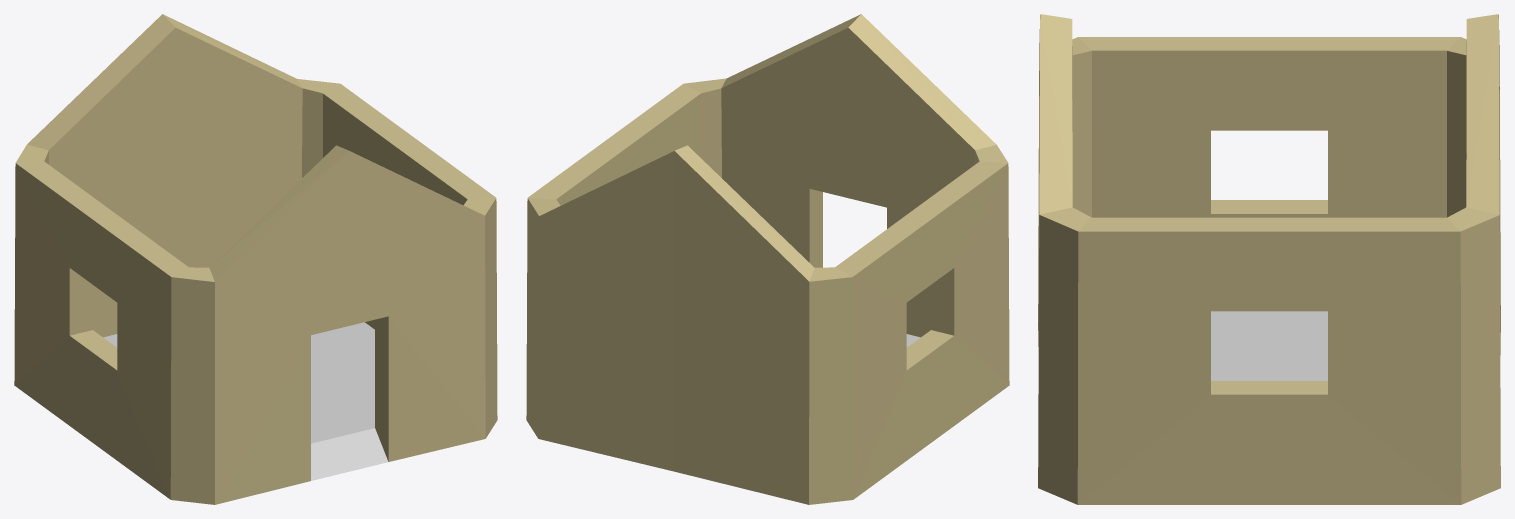
Rendered from 6x6house.fbx.
3 views of the same model, side by side, from view 1: azimuth 30°, elevation 25°; view 2: azimuth 150°, elevation 25°; view 3: azimuth 270°, elevation 25° (orthographic). The views are drawn at different scales.
Parts seen in each view (by area): view 1: Plane.047; view 2: Plane.047; view 3: Plane.047.
Boxes of the visible parts, x1,y1,x2,y2 form: Plane.047: (14,14,497,504); Plane.047: (526,14,1009,504); Plane.047: (1038,14,1500,504).
Size of the model in its own units: 704 by 659 by 704.
